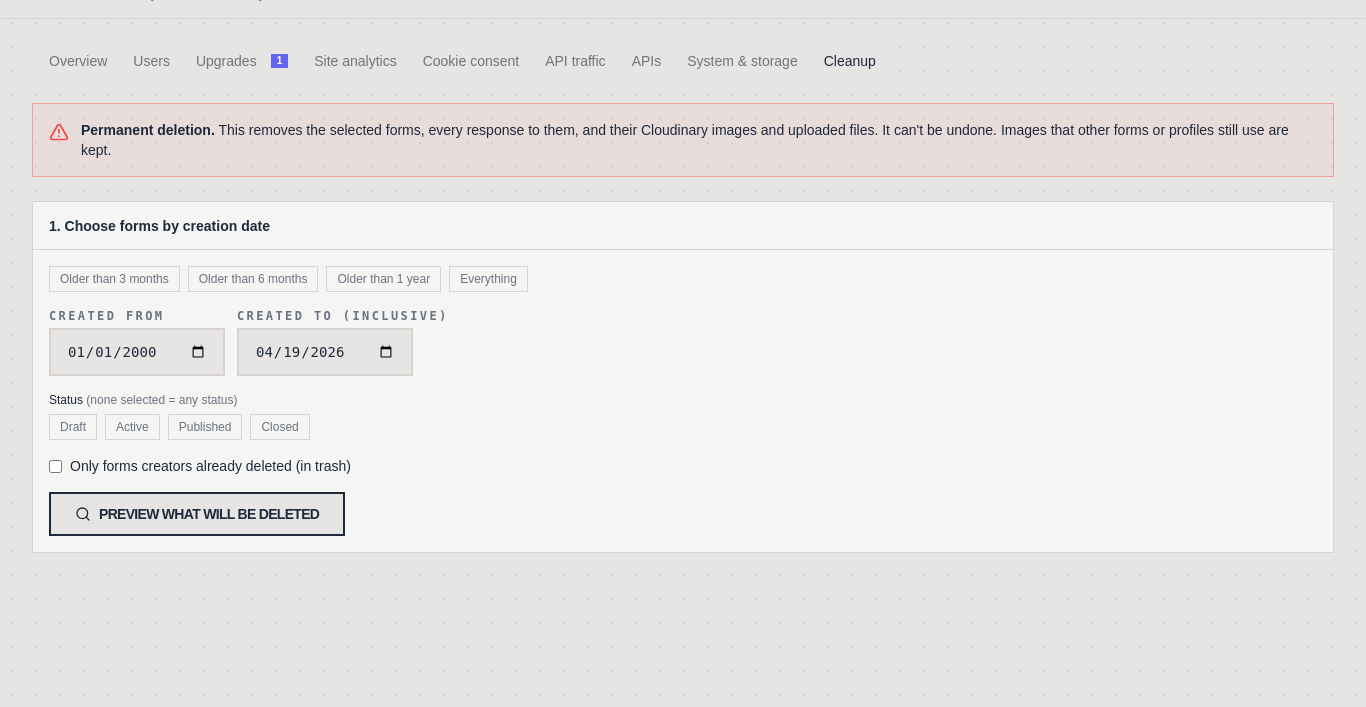
Test: Admin dashboard › cleanup: changing filters after a preview blocks deletion until previewed again
Click the button "Preview what will be deleted": x=197, y=514 [49,492,345,536]
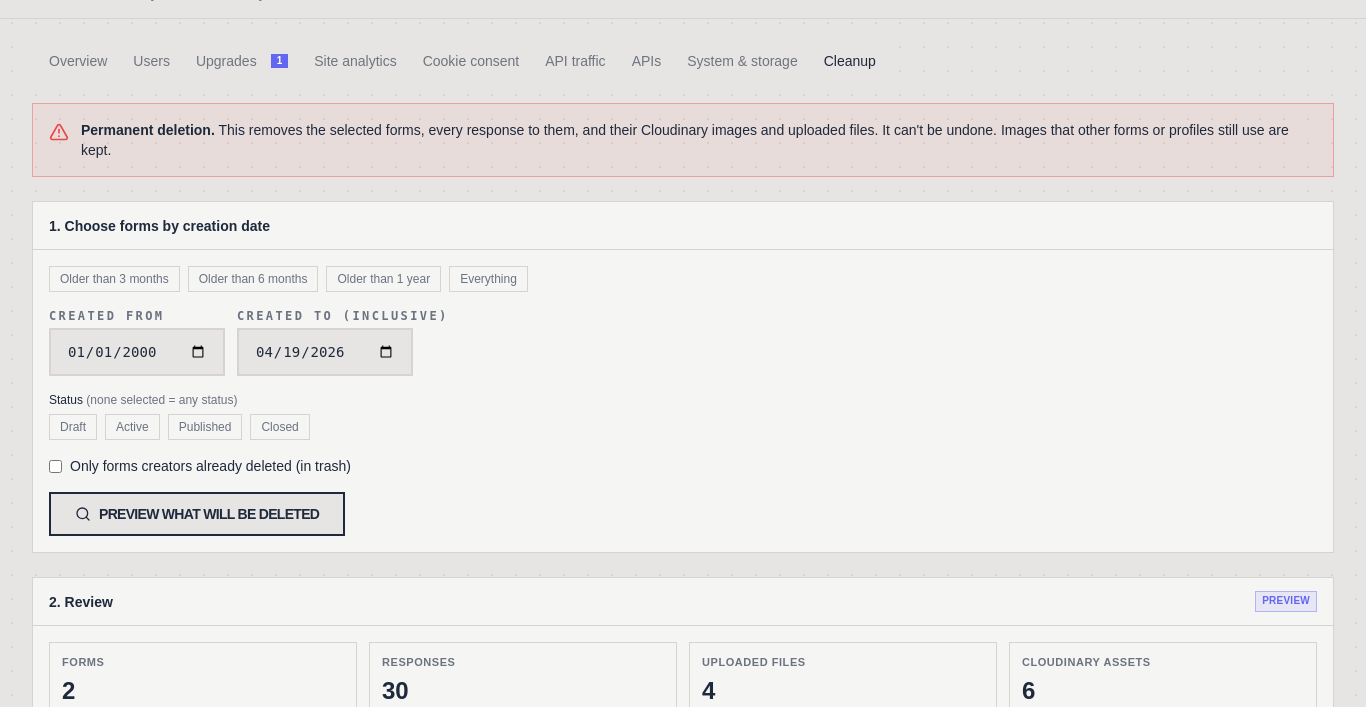
Click the button "closed": x=280, y=427 [250,414,310,440]
(page scrolled)
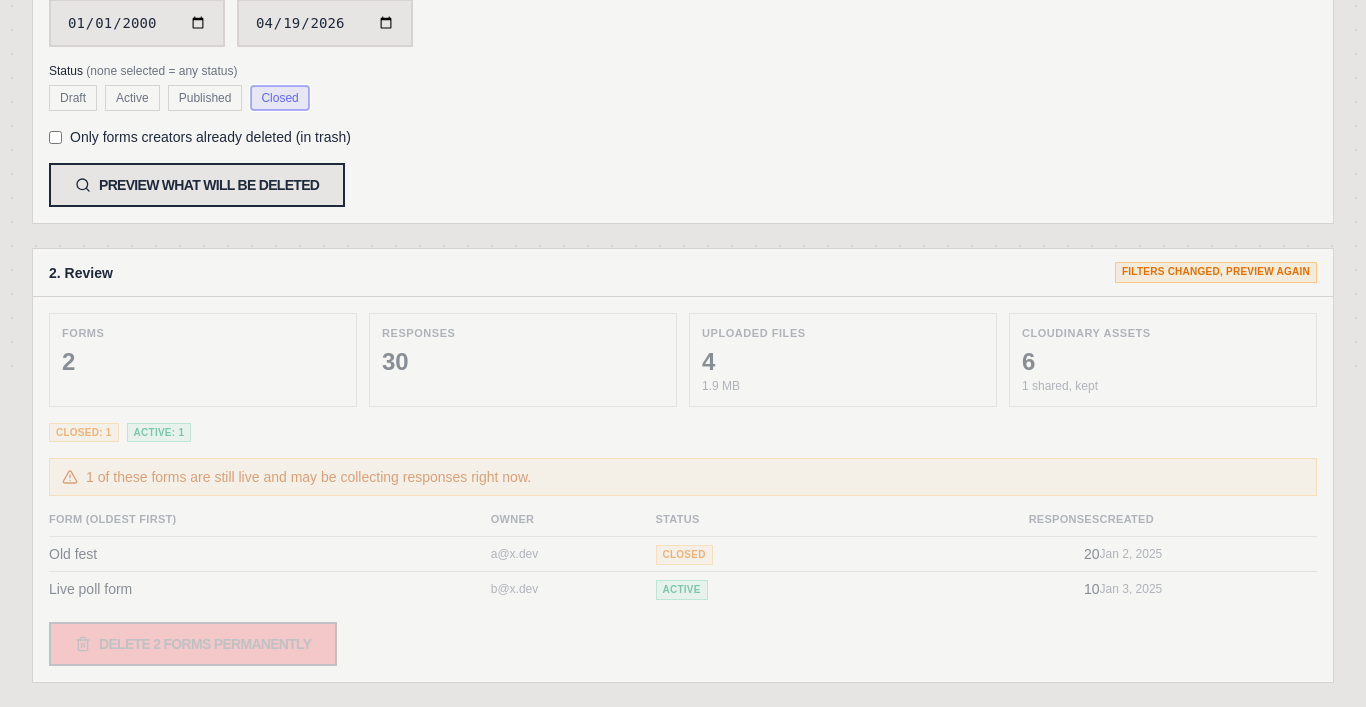
Now the text "filters changed, preview again" is shown, box [1115,262,1317,283]
Now the button "Delete 2 forms permanently" is disabled, box [49,622,337,666]
